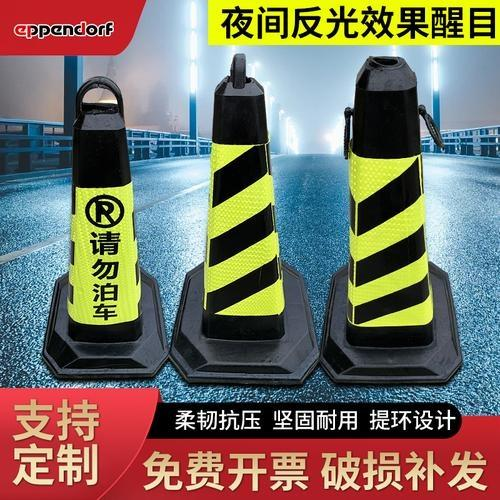cone_barrel: (318, 58, 457, 373), (167, 66, 306, 376), (40, 77, 166, 363)
